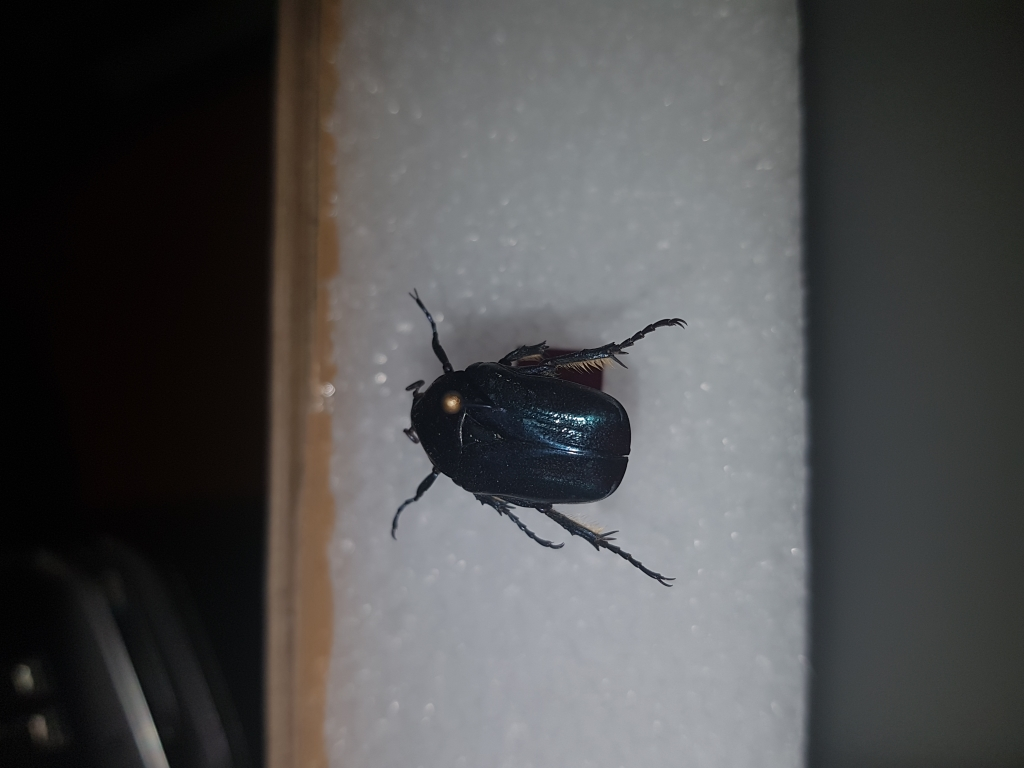Protaetia_besucheti: (363, 274, 703, 610)
